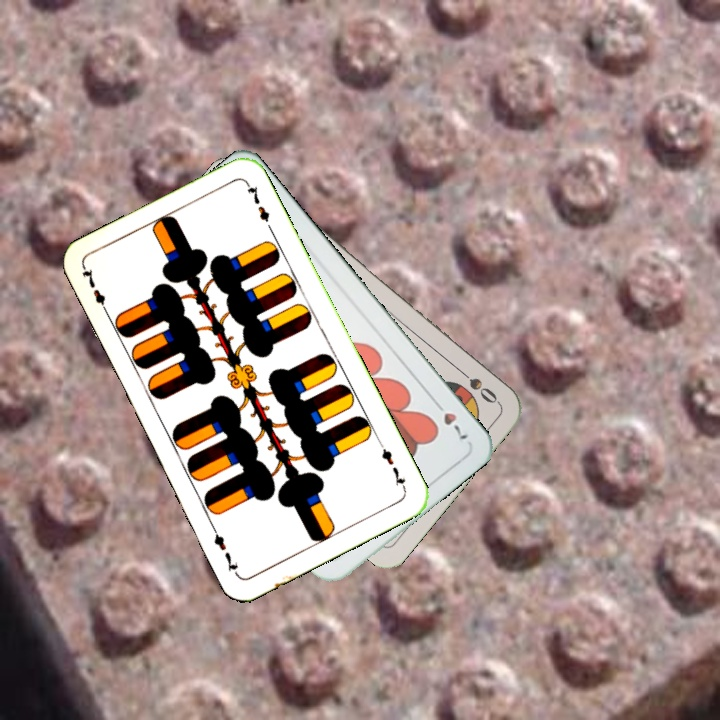E7: (375, 438, 409, 493), (78, 264, 112, 319)
H7: (429, 395, 471, 446)
SO: (452, 363, 501, 406)
